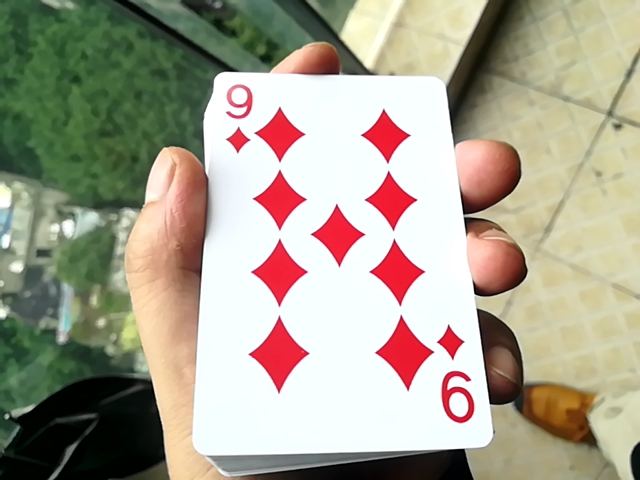fk 9: (175, 47, 487, 459)
